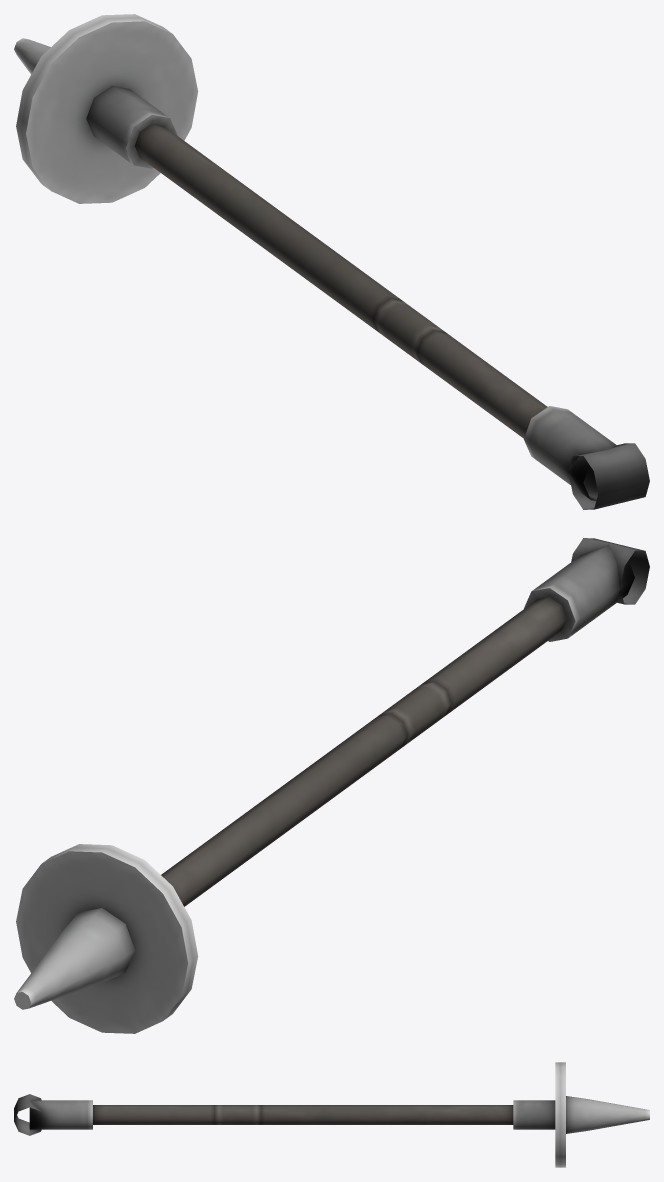
The model's file is low gain folding.obj.
The picture shows the model from 3 angles, top to bottom: view 1: azimuth 30°, elevation 25°; view 2: azimuth 150°, elevation 25°; view 3: azimuth 270°, elevation 25°; orthographic projection. The views are drawn at different scales.
Visible parts, largest first — view 1: 1; view 2: 1; view 3: 1.
Part boxes in pixels (x1,y1,x2,y2): 1: (14, 14, 649, 509); 1: (14, 538, 649, 1033); 1: (14, 1062, 649, 1167).
Size of the model in its own units: 0.125 by 0.125 by 0.7563.
Materials: 1 (1 with a texture image).
